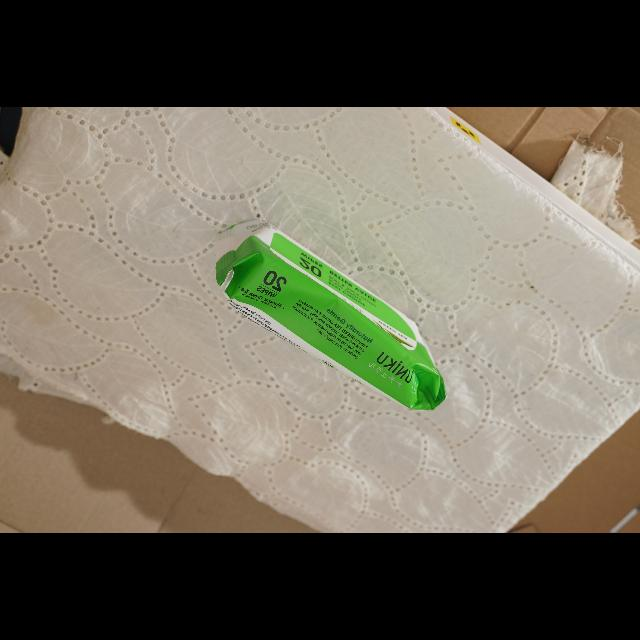khan_giay: (216, 228, 446, 410)
